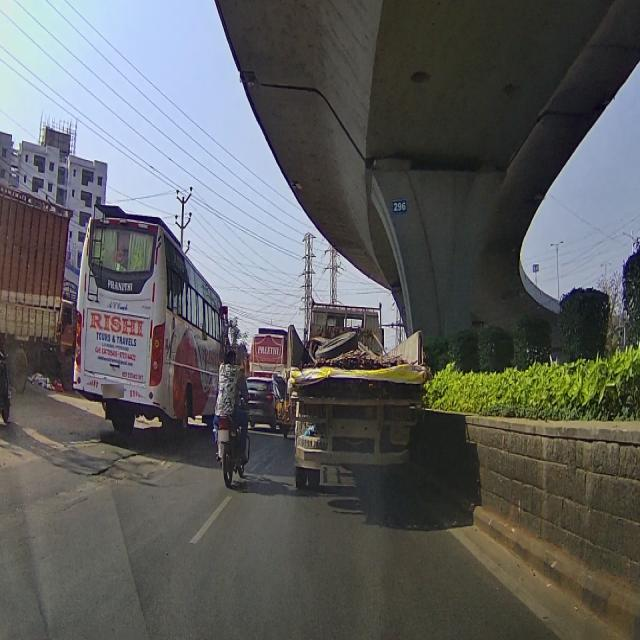bus ahead at: (72, 209, 215, 435)
truck ahead at: (290, 295, 424, 495)
